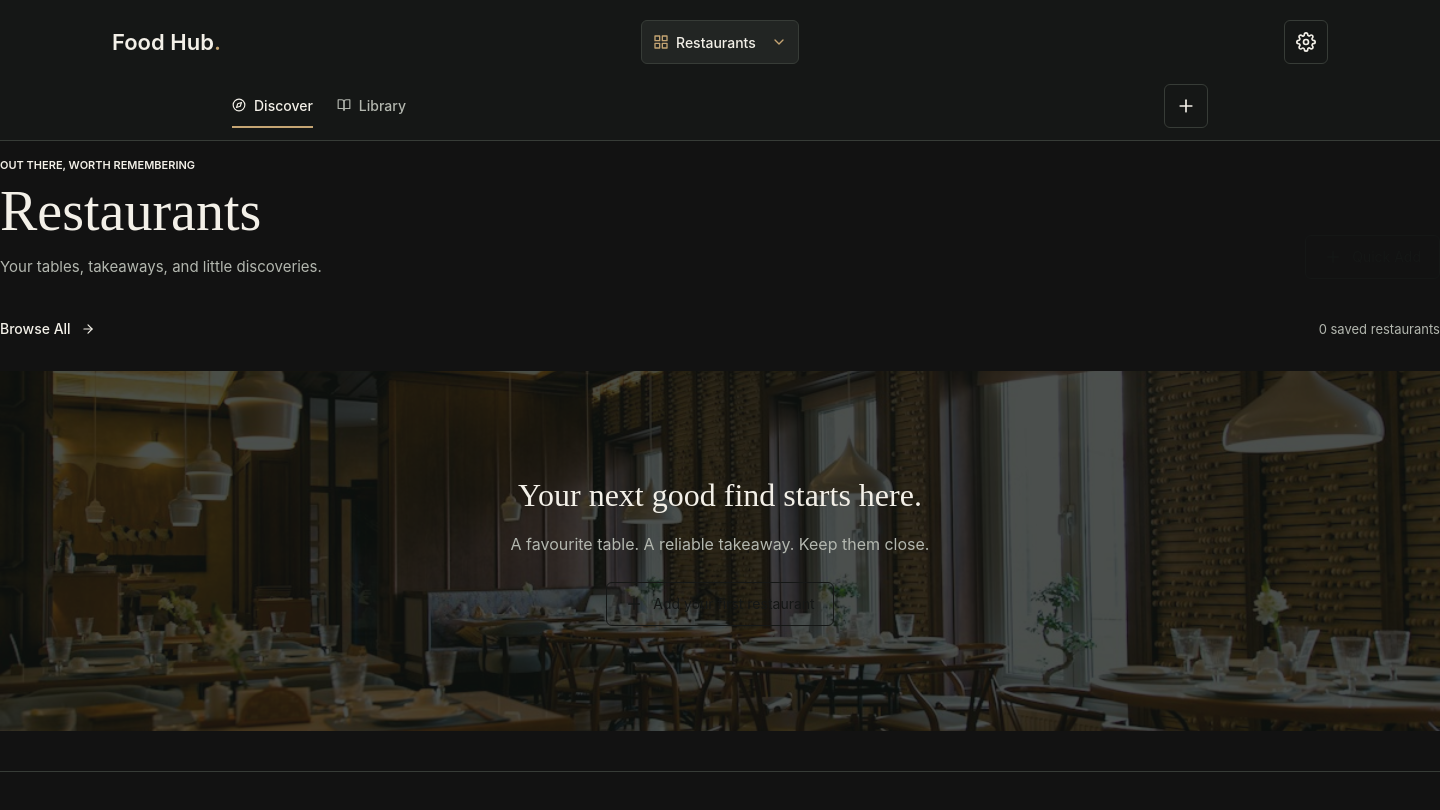
empty Discovery strongly exposes name-only Quick Add and hides shelves
The image size is (1440, 810).
Click the button "Add your first restaurant".
click(720, 604)  # box top-left (606, 582), bottom-right (834, 626)
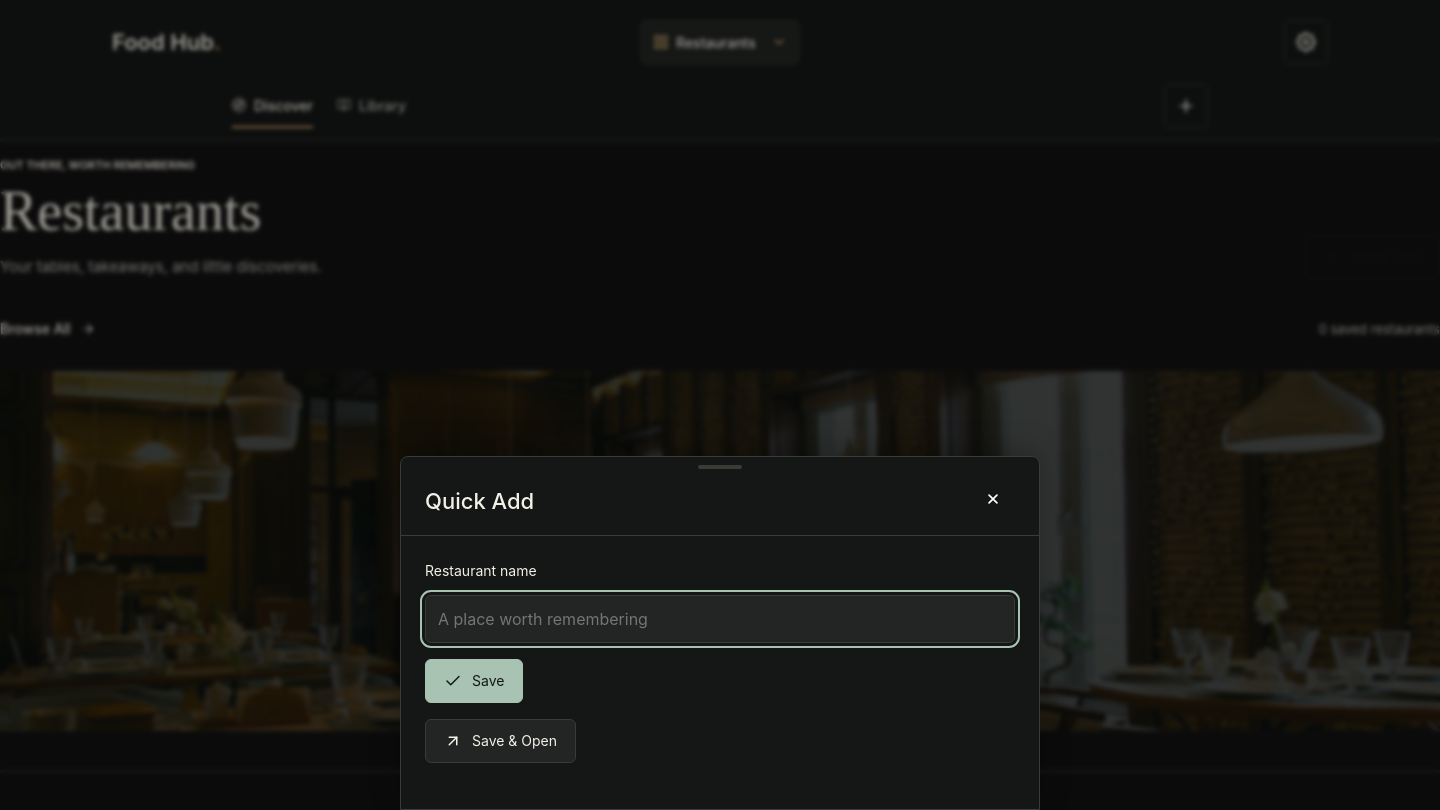
Type "  New place  " into the field labelled "Restaurant name".
click(720, 619); type("  New place  ")  # box top-left (425, 595), bottom-right (1015, 643)
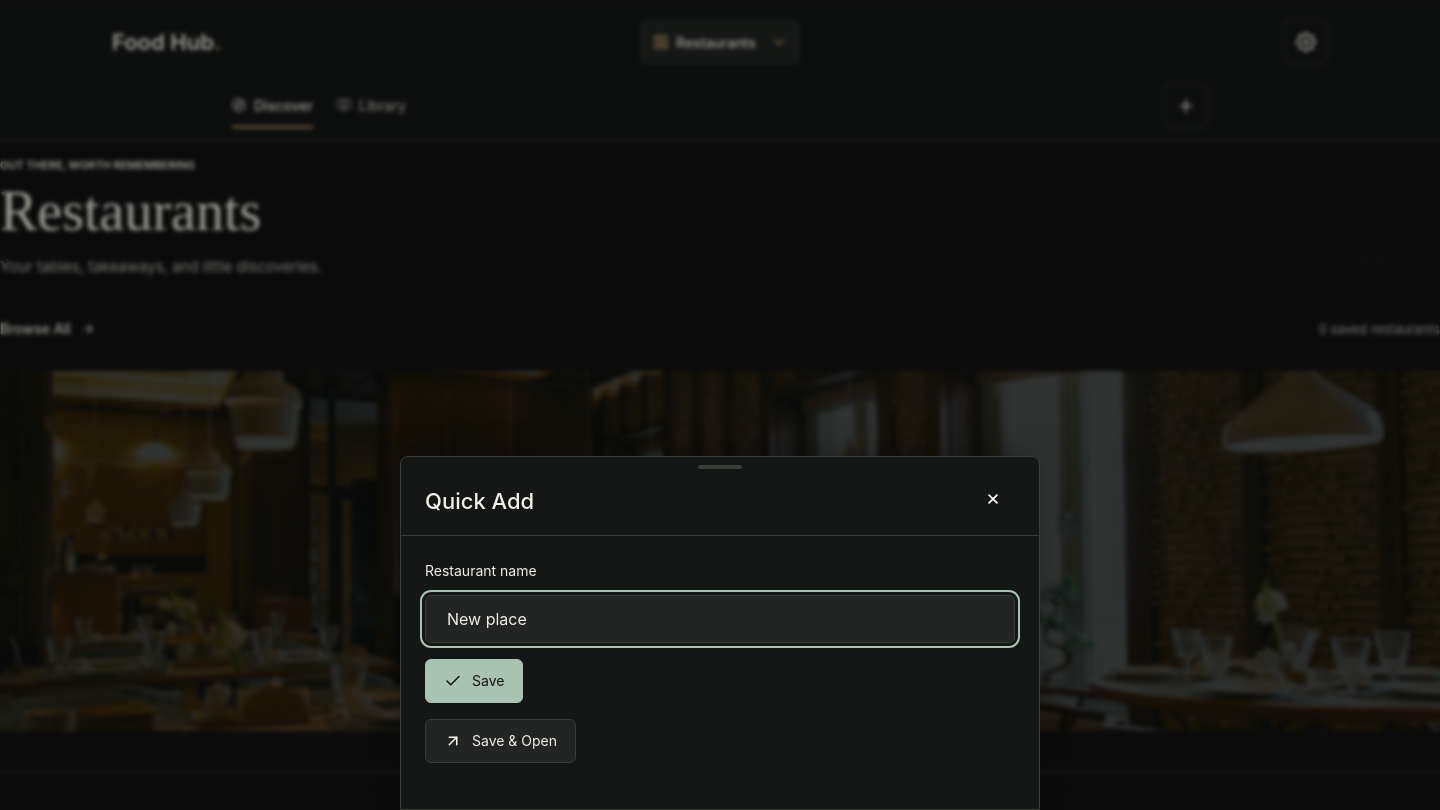
Click the button "Save".
click(474, 681)  # box top-left (425, 659), bottom-right (523, 703)
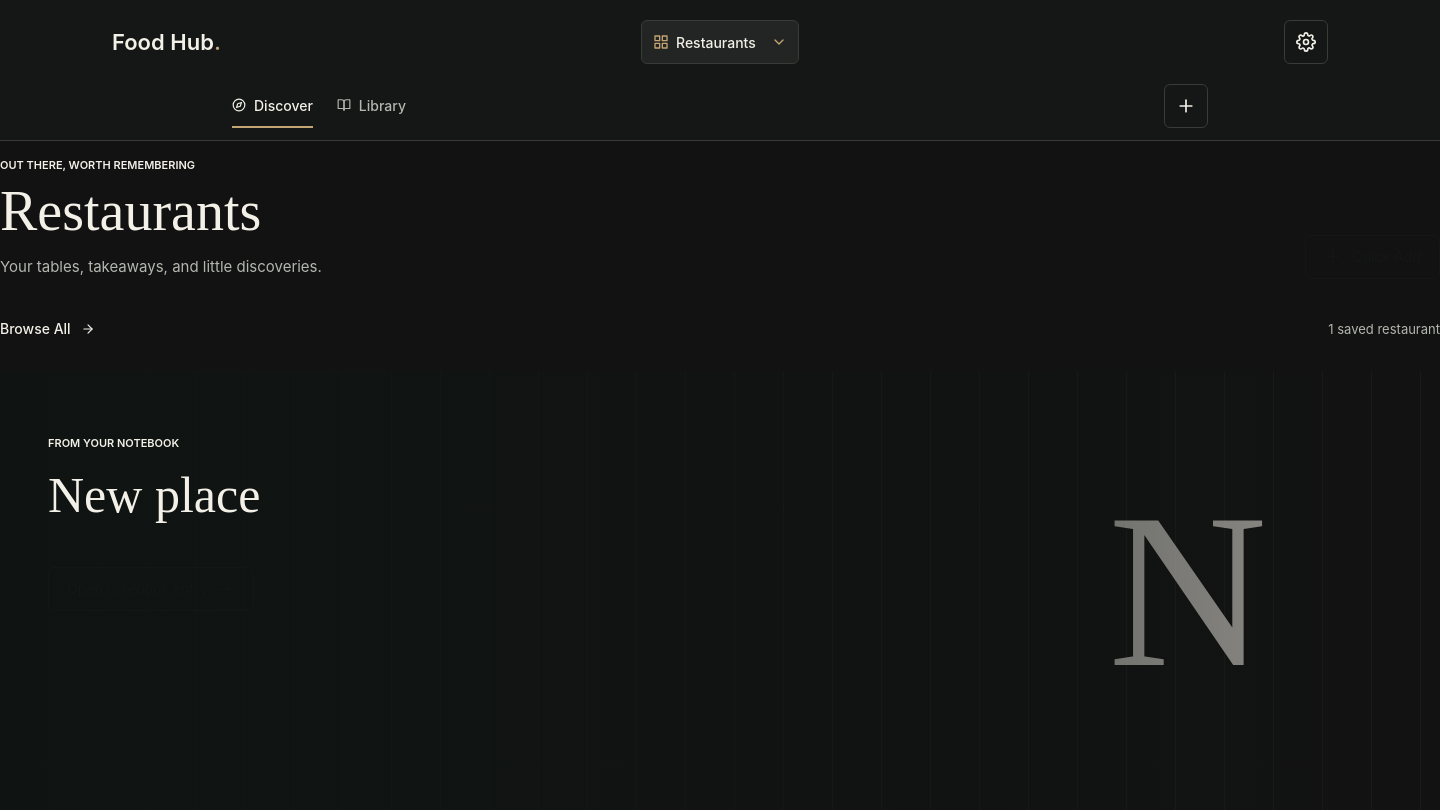
Now the dialog is gone
Now the element named "Rediscover a restaurant" shows "New place", box top-left (48, 467), bottom-right (260, 523)
